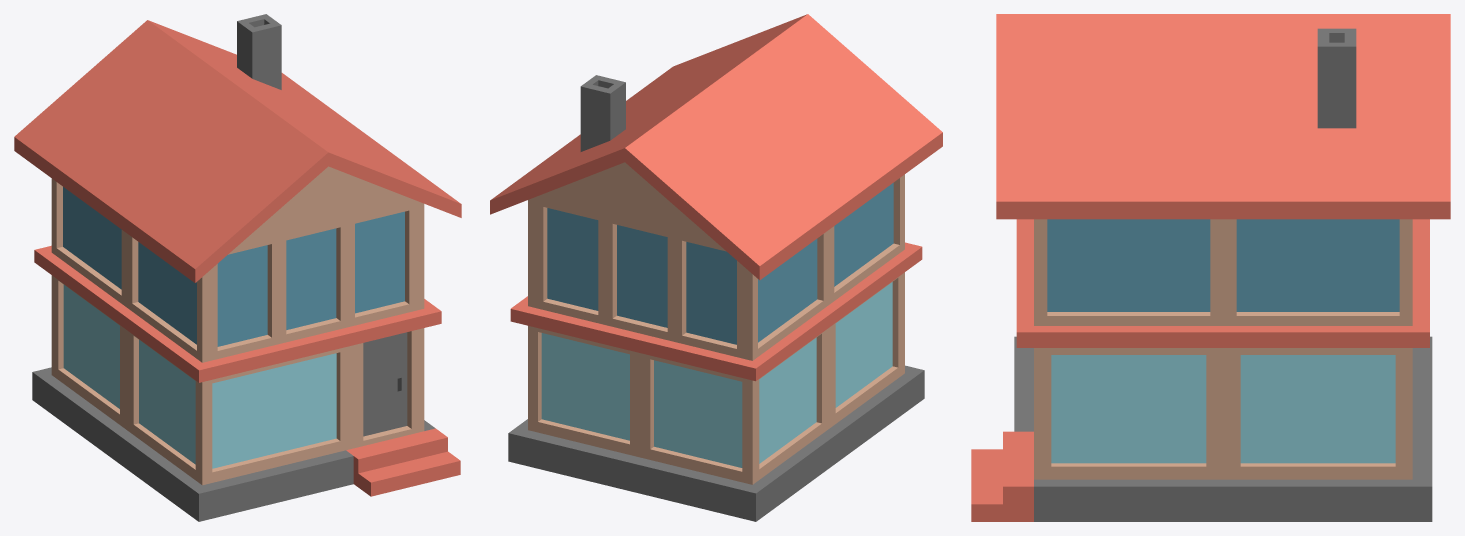
The model's file is House 1.5.fbx.
3 views of the same model, side by side, from view 1: azimuth 30°, elevation 25°; view 2: azimuth 150°, elevation 25°; view 3: azimuth 270°, elevation 25° (orthographic). The views are drawn at different scales.
Parts seen in each view (by area): view 1: House_Type1_5; view 2: House_Type1_5; view 3: House_Type1_5.
Part boxes in pixels (<box>): House_Type1_5: <box>14,14,461,521</box>; House_Type1_5: <box>490,14,942,521</box>; House_Type1_5: <box>971,14,1450,521</box>.
Bounding box in the file's own units: 397 × 510 × 492.
